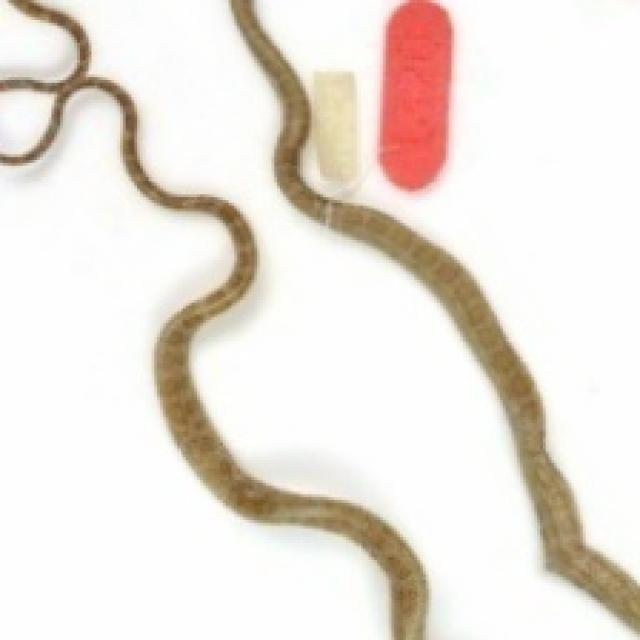mullers wolf snake: (43, 0, 637, 637), (257, 0, 637, 577), (0, 91, 389, 637)
